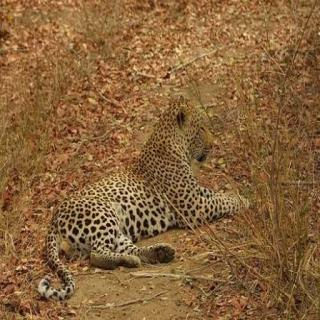Leopard: (38, 101, 259, 295)
